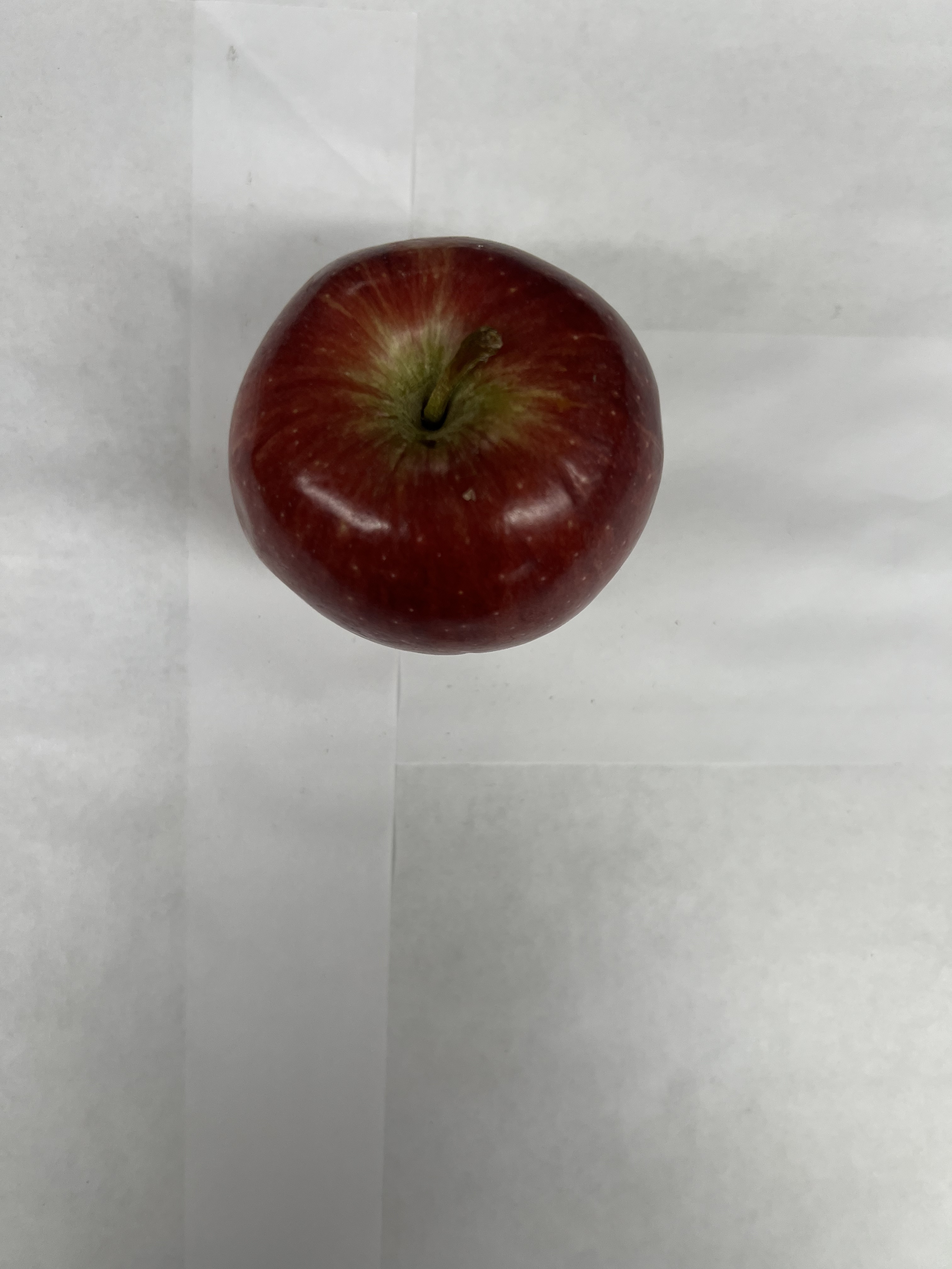produce: (219, 228, 673, 662)
